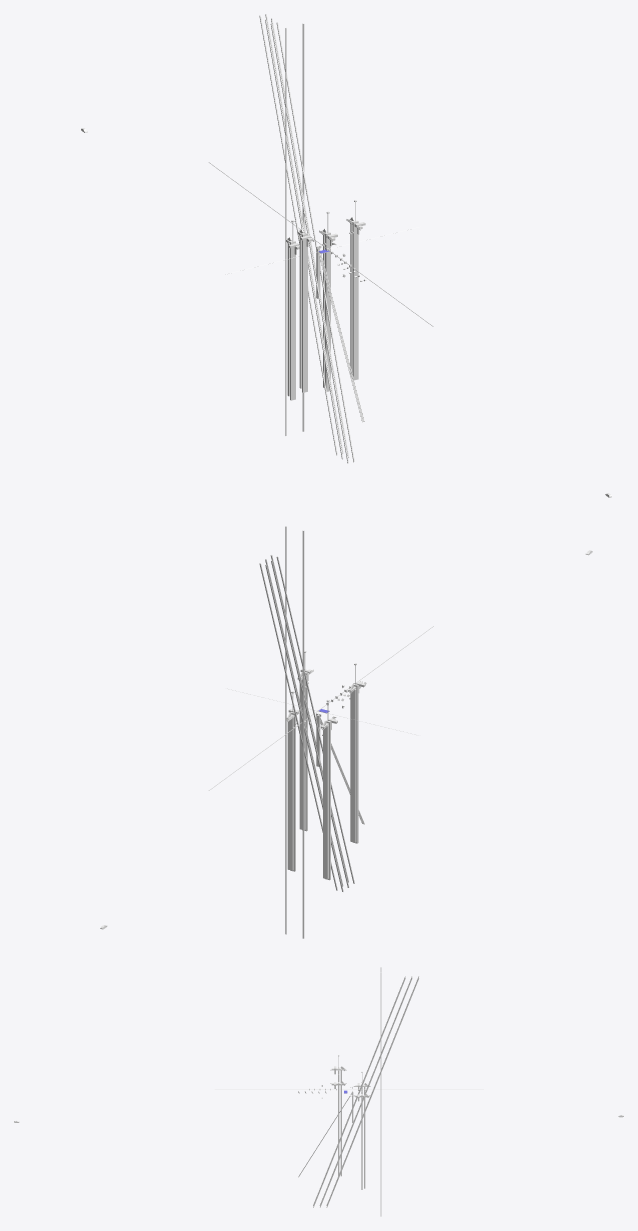
File: NiceEnvironment.glb
3 views of the same model, one above another, from view 1: azimuth 30°, elevation 25°; view 2: azimuth 150°, elevation 25°; view 3: azimuth 270°, elevation 25° (orthographic). The views are drawn at different scales.
Visible parts, largest first — view 1: CombinedMesh (×5); view 2: CombinedMesh (×5); view 3: CombinedMesh (×3).
Boxes of the visible parts, box(x1,y1,x2,y2) form: CombinedMesh (×5): box(259, 14, 365, 463); CombinedMesh (×5): box(259, 526, 365, 938); CombinedMesh (×3): box(313, 967, 419, 1216).
Bounding box in the file's own units: 395 × 400 × 905.
9 materials, 2 textured.
